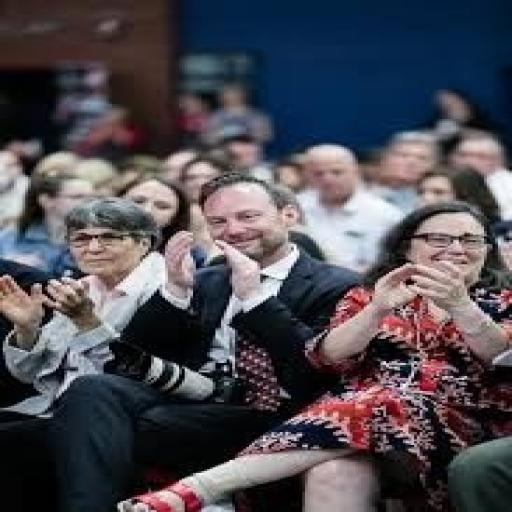clapping: (0, 63, 509, 510)
